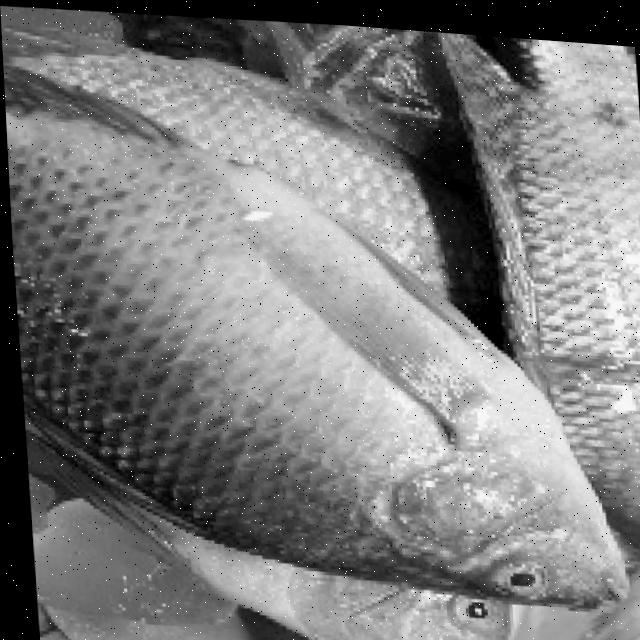Fresh: (1, 14, 631, 630)
